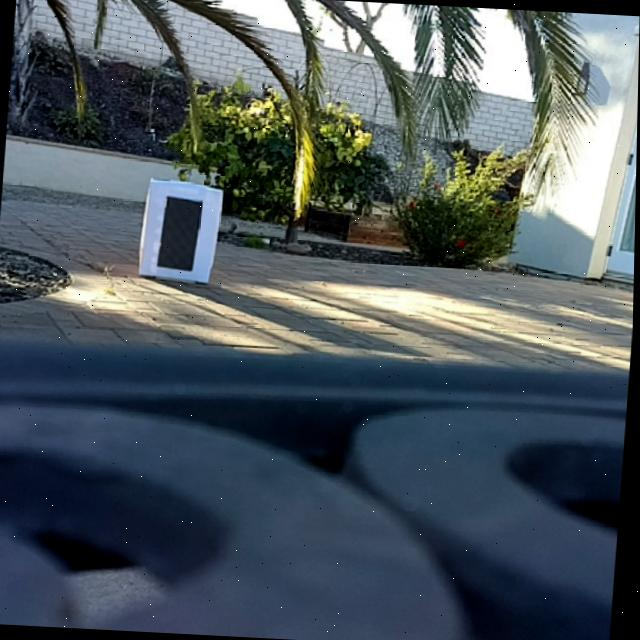led: (160, 196, 202, 272)
